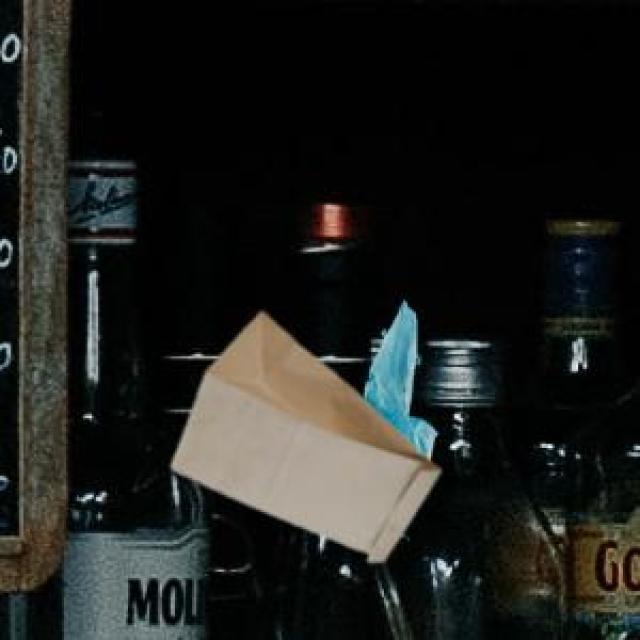paper: (169, 309, 435, 557)
